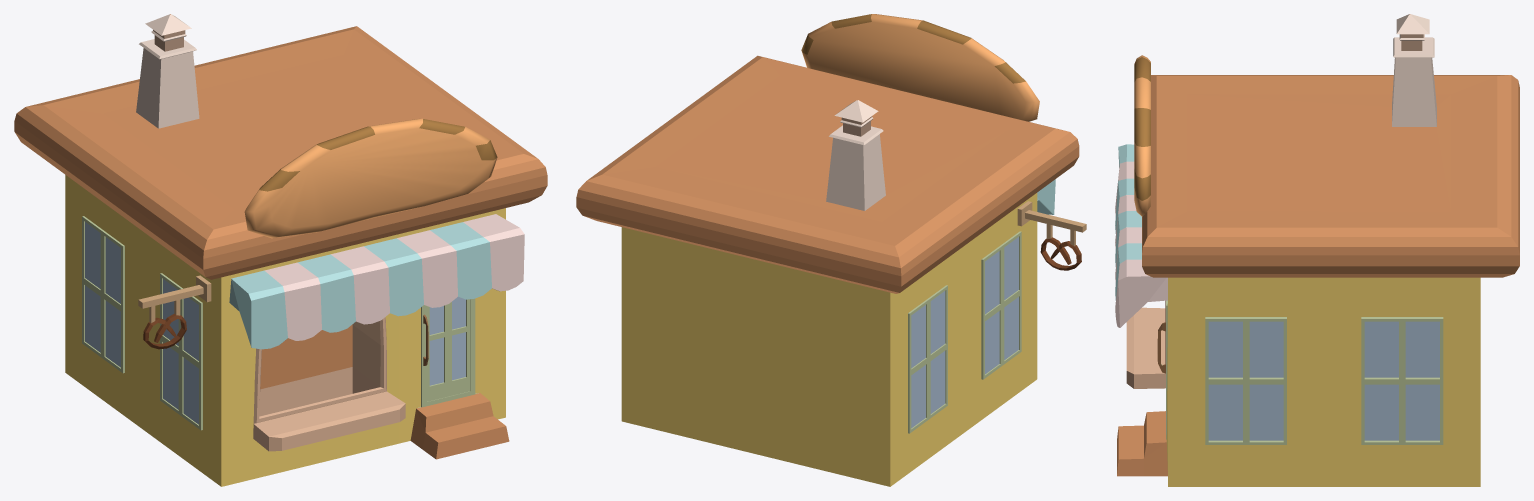
File: булочная.fbx
3 renders of one model, left to right at view 1: azimuth 30°, elevation 25°; view 2: azimuth 150°, elevation 25°; view 3: azimuth 270°, elevation 25°, orthographic. The views are drawn at different scales.
Visible parts, largest first — view 1: Cube, Plane.001, Plane, Cube.001; view 2: Cube, Plane, Cube.001; view 3: Cube, Plane.001, Plane.
Part boxes in pixels (x1,y1,x2,y2): Cube: [14, 14, 547, 486]; Plane.001: [229, 214, 524, 349]; Plane: [244, 118, 497, 238]; Cube.001: [138, 275, 211, 349]; Cube: [576, 55, 1079, 486]; Plane: [801, 14, 1039, 121]; Cube.001: [1017, 201, 1086, 270]; Cube: [1117, 14, 1519, 486]; Plane.001: [1115, 144, 1167, 327]; Plane: [1134, 55, 1150, 216].
Size of the model in its own units: 2101 by 1948 by 1943.
